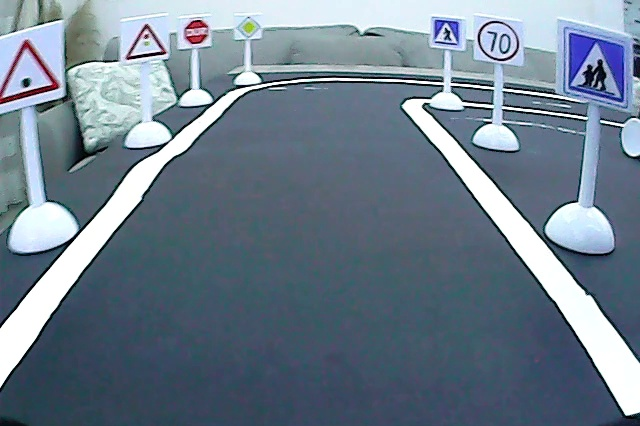green light: (1, 35, 64, 107)
pedestrian crossing: (431, 16, 462, 47)
red light: (122, 20, 170, 62)
school crossing: (562, 26, 629, 110)
speed limit 70: (474, 19, 522, 62)
stop sign: (181, 17, 211, 47)
